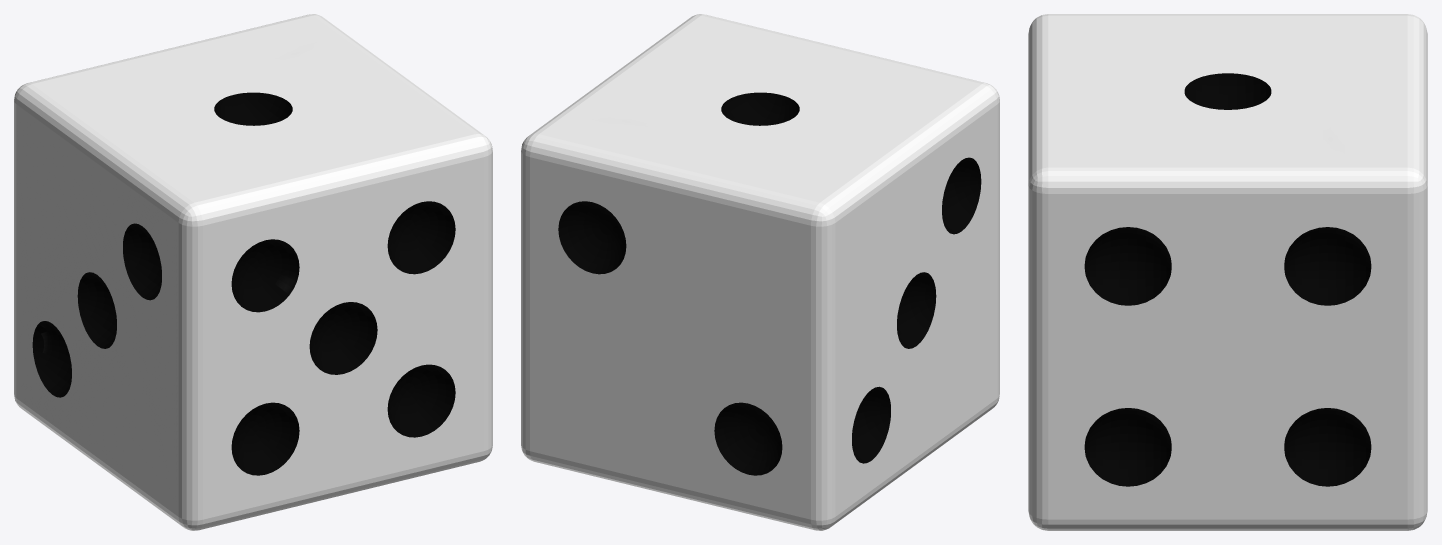
Rendered from dice.glb.
The picture shows the model from 3 angles, left to right: view 1: azimuth 30°, elevation 25°; view 2: azimuth 150°, elevation 25°; view 3: azimuth 270°, elevation 25°; orthographic projection. The views are drawn at different scales.
Visible parts, largest first — view 1: Cube.001; view 2: Cube.001; view 3: Cube.001.
Part boxes in pixels (box(x1,y1,x2,y2)): Cube.001: box(14, 14, 492, 530); Cube.001: box(521, 14, 999, 530); Cube.001: box(1028, 14, 1427, 530).
Bounding box in the file's own units: 2 × 2 × 2.
1 material, 1 textured.
